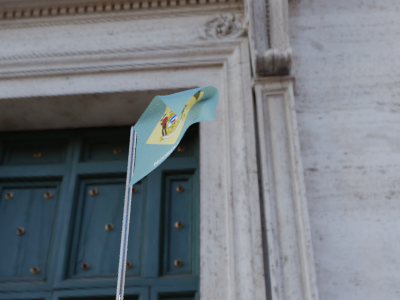Delaware flag: (129, 85, 221, 186)
